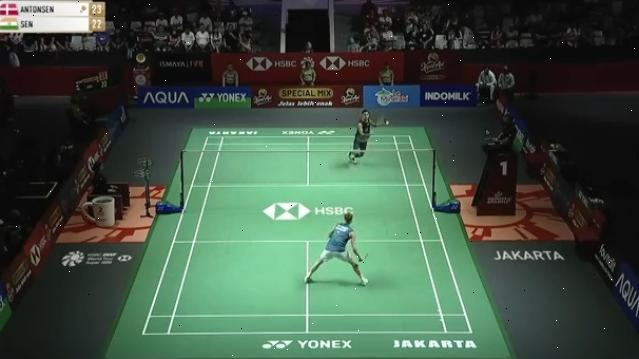Shuttlecock: (383, 118, 393, 128)
